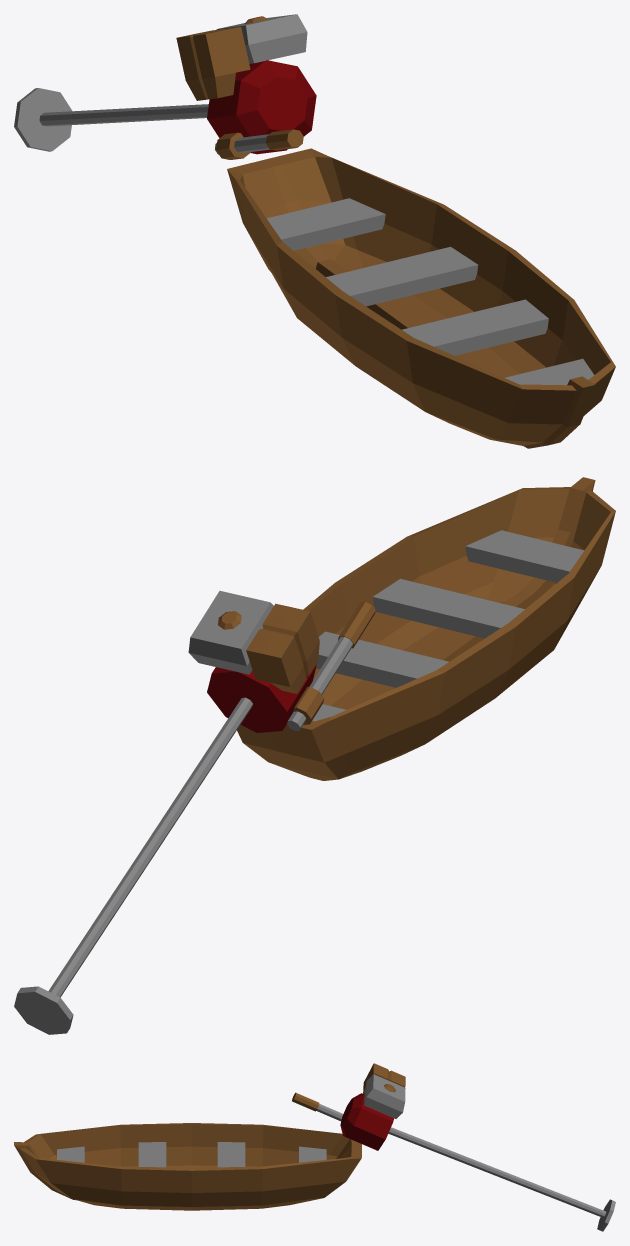
Rendered from 27.06_Bubuia_canoa1-0.fbx.
The picture shows the model from 3 angles, top to bottom: view 1: azimuth 30°, elevation 25°; view 2: azimuth 150°, elevation 25°; view 3: azimuth 270°, elevation 25°; orthographic projection. The views are drawn at different scales.
Visible parts, largest first — view 1: Cube; view 2: Cube; view 3: Cube.
Part boxes in pixels (left/top/right/bottom): Cube: left=14, top=14, right=615, bottom=448; Cube: left=14, top=477, right=615, bottom=1034; Cube: left=14, top=1063, right=615, bottom=1231.
Size of the model in its own units: 4.5 by 6.73 by 23.88.
